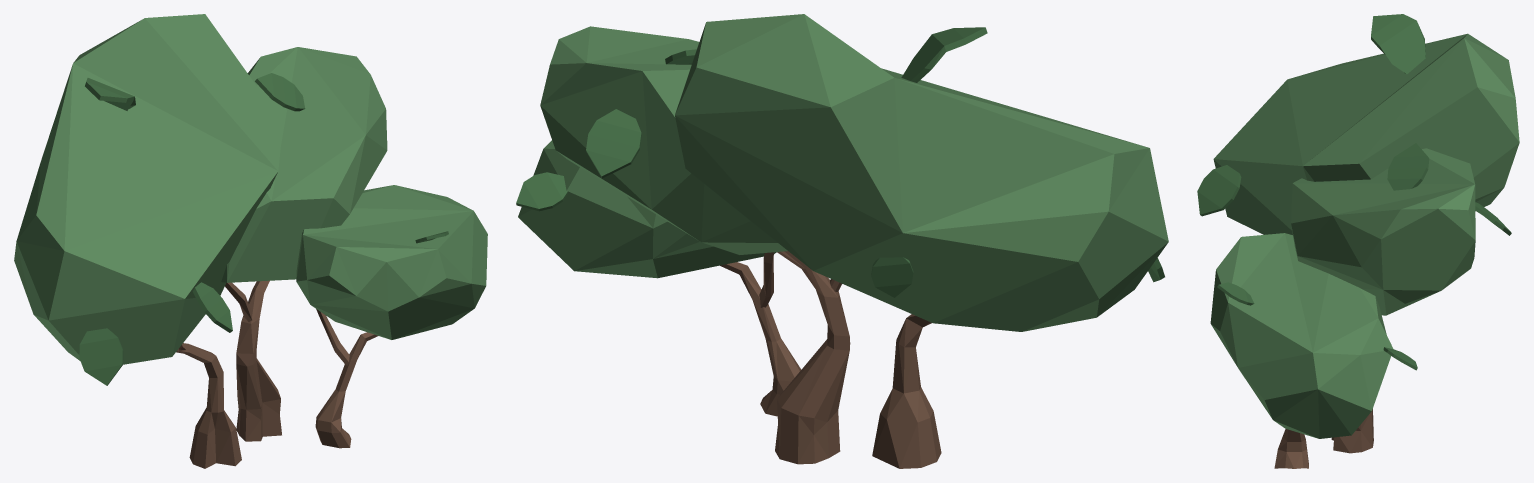
File: bush_3.obj
3 views of the same model, side by side, from view 1: azimuth 30°, elevation 25°; view 2: azimuth 150°, elevation 25°; view 3: azimuth 270°, elevation 25° (orthographic). The views are drawn at different scales.
Visible parts, largest first — view 1: bush_3; view 2: bush_3; view 3: bush_3.
Boxes of the visible parts, x1,y1,x2,y2 form: bush_3: (14,14,487,468); bush_3: (516,14,1168,468); bush_3: (1197,14,1519,468).
Bounding box in the file's own units: 1.68 × 1.36 × 1.05.
